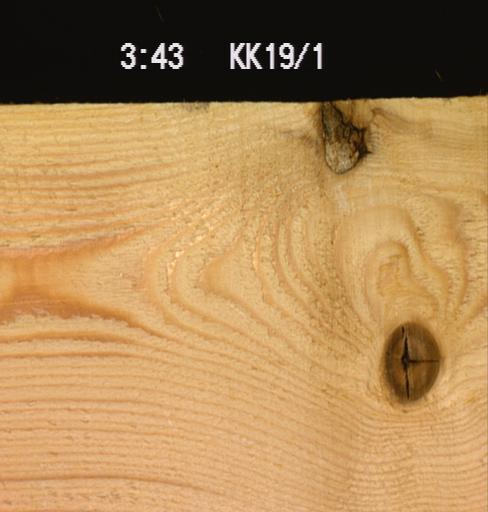edge_knot: (319, 99, 374, 173)
sound_knot: (378, 318, 441, 403)
